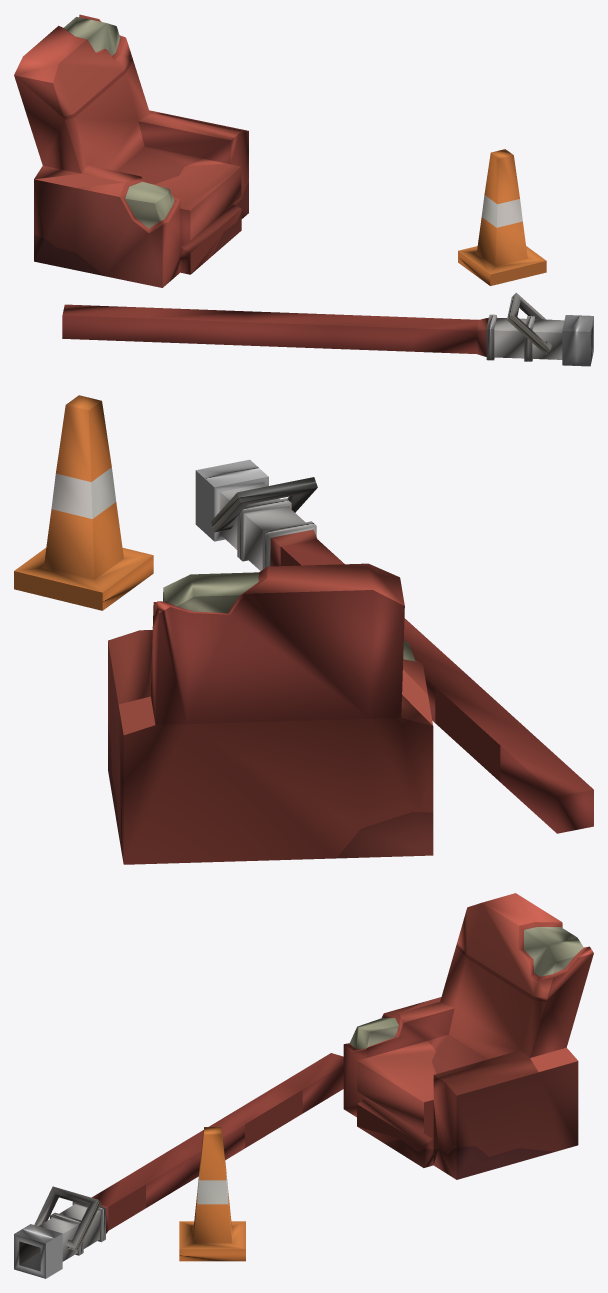
File: apoc_prop_3.glb
The picture shows the model from 3 angles, top to bottom: view 1: azimuth 30°, elevation 25°; view 2: azimuth 150°, elevation 25°; view 3: azimuth 270°, elevation 25°; orthographic projection. The views are drawn at different scales.
Parts seen in each view (by area): view 1: prop_003; view 2: prop_003; view 3: prop_003.
Boxes of the visible parts, <box> form: prop_003: <box>14,14,593,366</box>; prop_003: <box>14,395,593,864</box>; prop_003: <box>14,893,593,1278</box>.
Size of the model in its own units: 0.626 by 0.3056 by 0.7476.
Materials: 1 (1 with a texture image).
